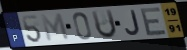0: (72, 11, 94, 41)
5: (20, 14, 43, 44)
E: (140, 6, 169, 37)
J: (124, 9, 141, 36)
M: (39, 12, 71, 43)
U: (90, 8, 118, 40)
